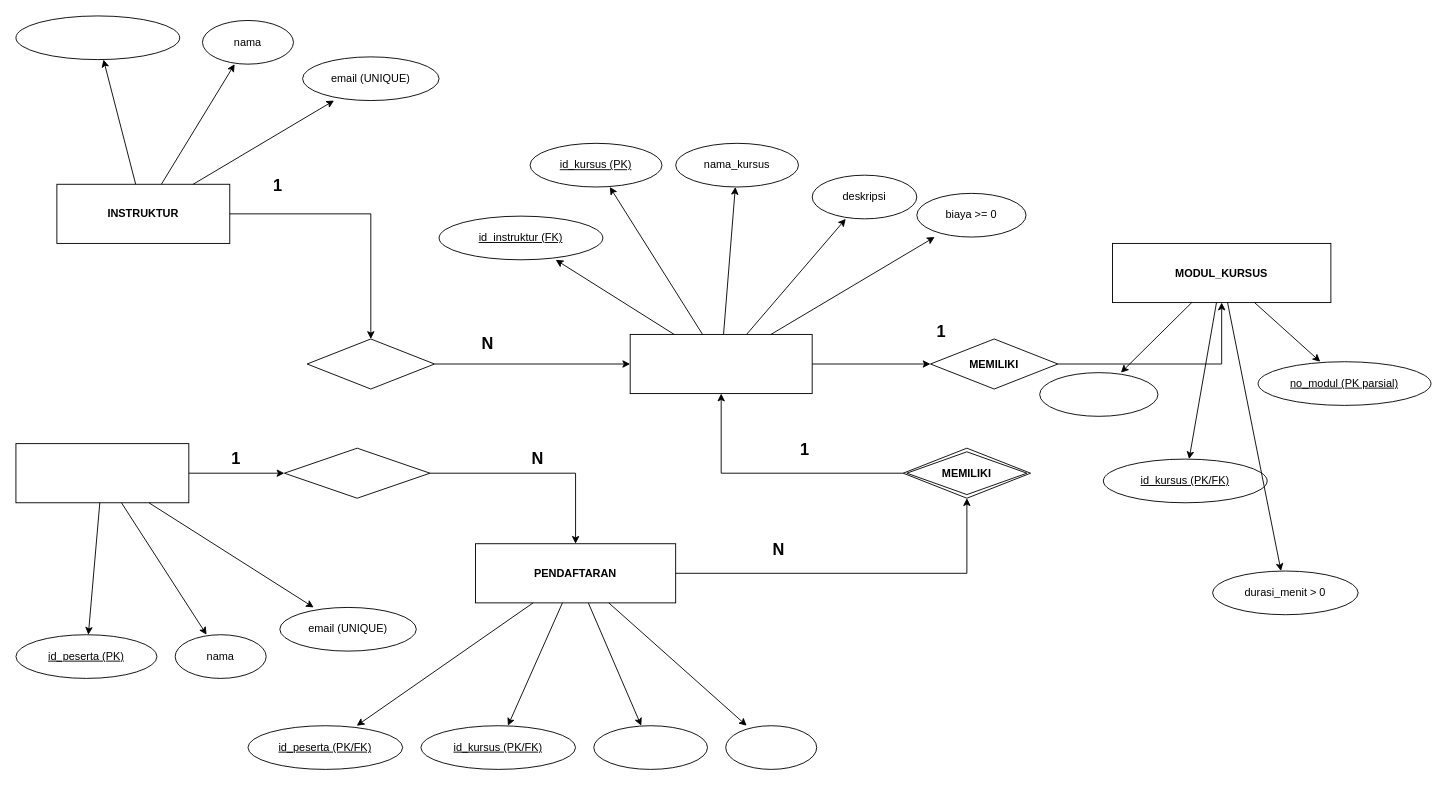
Image size: 1447x785. Some labels were removed from this diagram. Here are the shapes that lost their labels. From the top down, the centre of each, then its label:
[97,37]: id_instruktur (PK)
[370,363]: MENGAJAR
[720,364]: KURSUS
[1098,394]: judul_modul
[102,473]: PESERTA
[356,472]: MENDAFTAR
[650,747]: tgl_daftar
[771,747]: status
